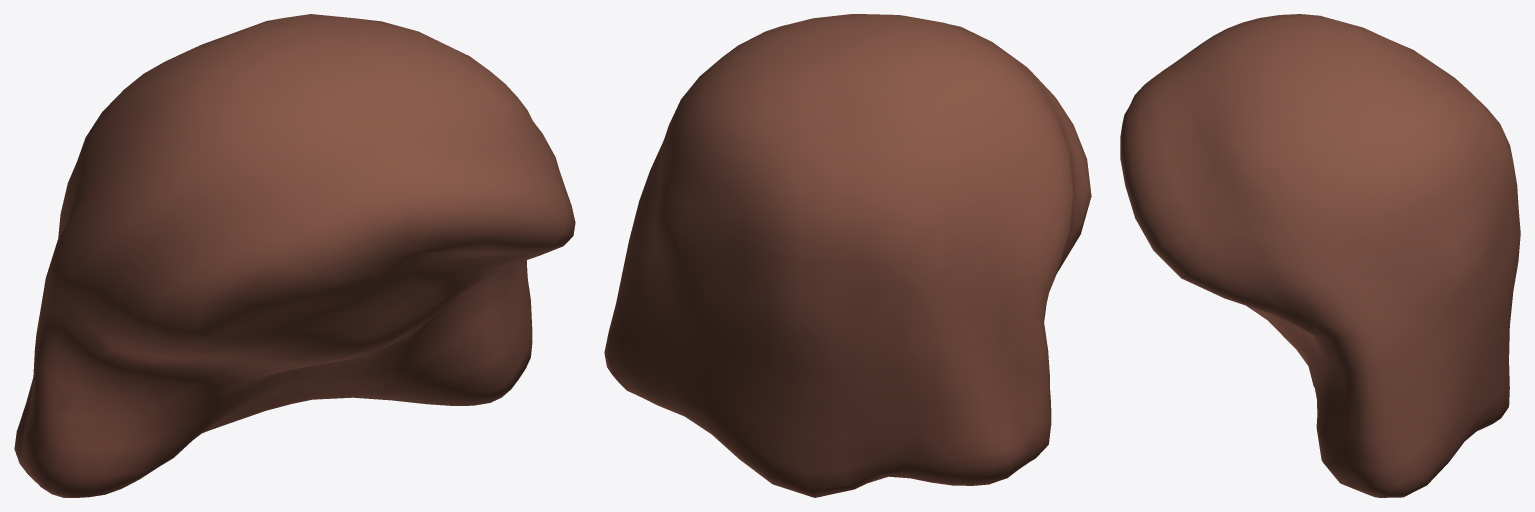
Rendered from Hairstyle_Female_03.glb.
3 views of the same model, side by side, from view 1: azimuth 30°, elevation 25°; view 2: azimuth 150°, elevation 25°; view 3: azimuth 270°, elevation 25° (orthographic). The views are drawn at different scales.
Visible parts, largest first — view 1: Hairstyle_Female_03; view 2: Hairstyle_Female_03; view 3: Hairstyle_Female_03.
Part boxes in pixels (x1,y1,x2,y2): Hairstyle_Female_03: (14, 14, 575, 497); Hairstyle_Female_03: (604, 14, 1091, 497); Hairstyle_Female_03: (1120, 14, 1520, 497).
Bounding box in the file's own units: 0.6808 × 0.5878 × 0.5591.
1 material, 1 textured.
